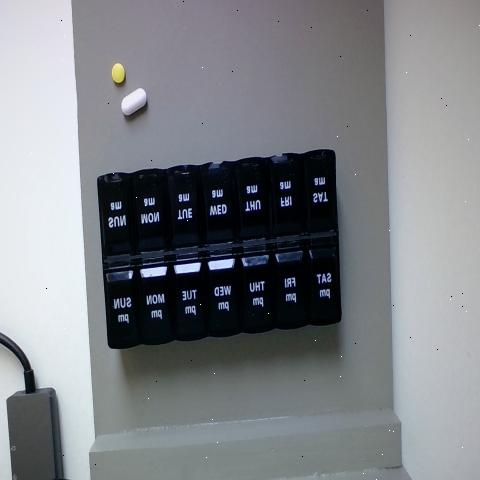FRI-am: (269, 158, 300, 237)
FRI-pm: (272, 251, 304, 330)
MON-am: (135, 172, 169, 250)
MON-pm: (140, 263, 171, 345)
Pill: (116, 81, 153, 126), (106, 55, 130, 88)
PillBox: (93, 123, 363, 404)
SAT-am: (303, 155, 337, 233)
SAT-pm: (310, 243, 338, 324)
SUN-am: (103, 175, 134, 257)
SUN-pm: (108, 264, 136, 342)
THU-am: (237, 156, 269, 243)
THU-pm: (239, 255, 274, 333)
TUE-am: (168, 170, 204, 251)
TUE-pm: (174, 263, 203, 341)
WED-am: (204, 164, 235, 250)
WED-pm: (205, 258, 237, 336)
